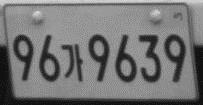3: (138, 33, 161, 82)
6: (37, 33, 60, 82), (114, 33, 137, 82)
9: (163, 33, 186, 83), (87, 33, 109, 82), (11, 34, 33, 81)
가: (61, 42, 84, 82)
